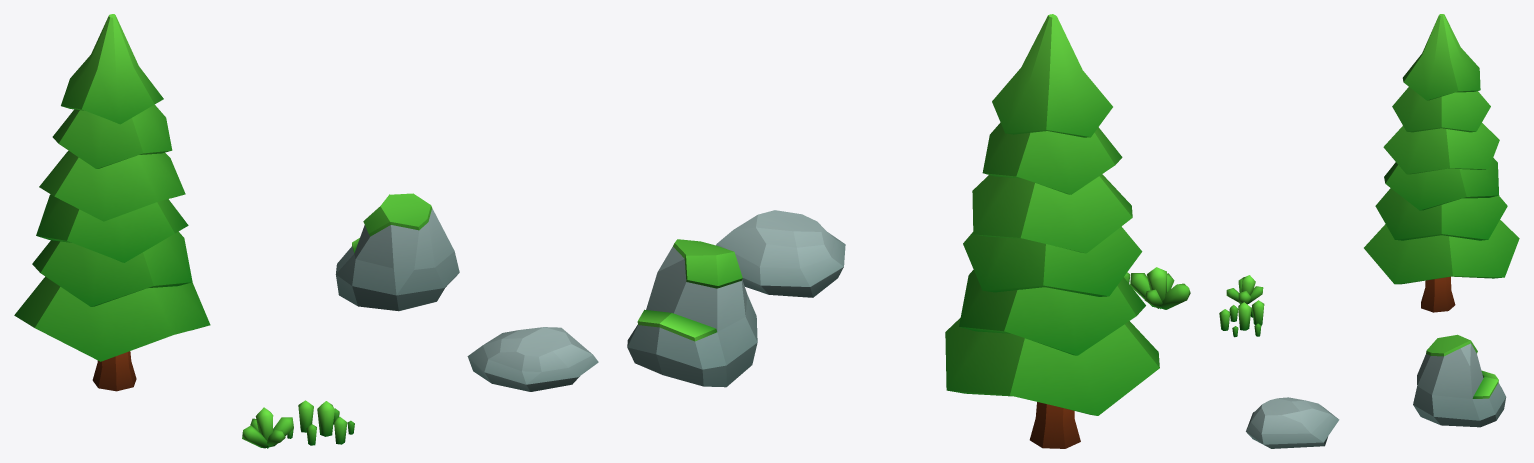
The model's file is nature-objects-1.fbx.
3 views of the same model, side by side, from view 1: azimuth 30°, elevation 25°; view 2: azimuth 150°, elevation 25°; view 3: azimuth 270°, elevation 25° (orthographic). The views are drawn at different scales.
Parts seen in each view (by area): view 1: tree.009, rock.010, rock.003, Box017, Box018; view 2: tree.009, rock.010, rock.003, Box018; view 3: tree.009, rock.010, rock.003, Box017, Box018.
Part boxes in pixels (<box>): tree.009: <box>14,14,210,391</box>; rock.010: <box>335,193,459,311</box>; rock.003: <box>467,327,598,391</box>; Box017: <box>287,400,354,445</box>; Box018: <box>242,407,293,448</box>; tree.009: <box>945,14,1159,448</box>; rock.010: <box>627,239,757,387</box>; rock.003: <box>716,210,845,297</box>; Box018: <box>1130,267,1190,309</box>; tree.009: <box>1364,14,1519,312</box>; rock.010: <box>1413,334,1506,427</box>; rock.003: <box>1246,397,1339,448</box>; Box017: <box>1219,300,1264,337</box>; Box018: <box>1226,275,1263,304</box>.
Size of the model in its own units: 1356 by 1037 by 962.
